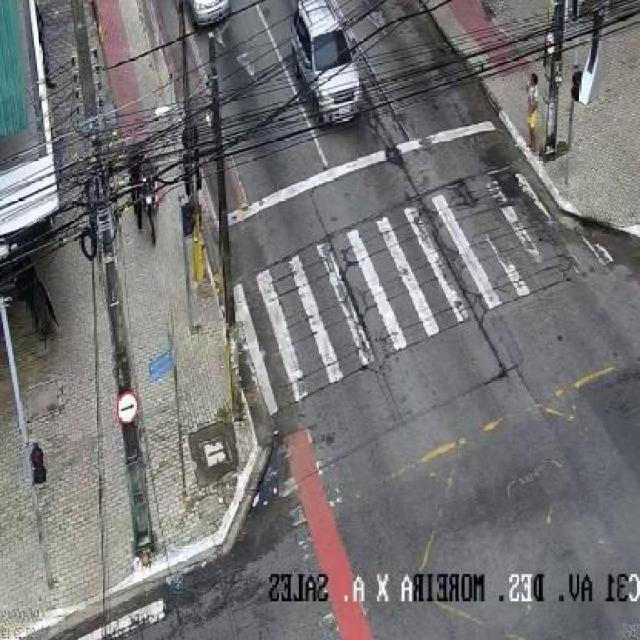Car: (291, 0, 373, 155)
